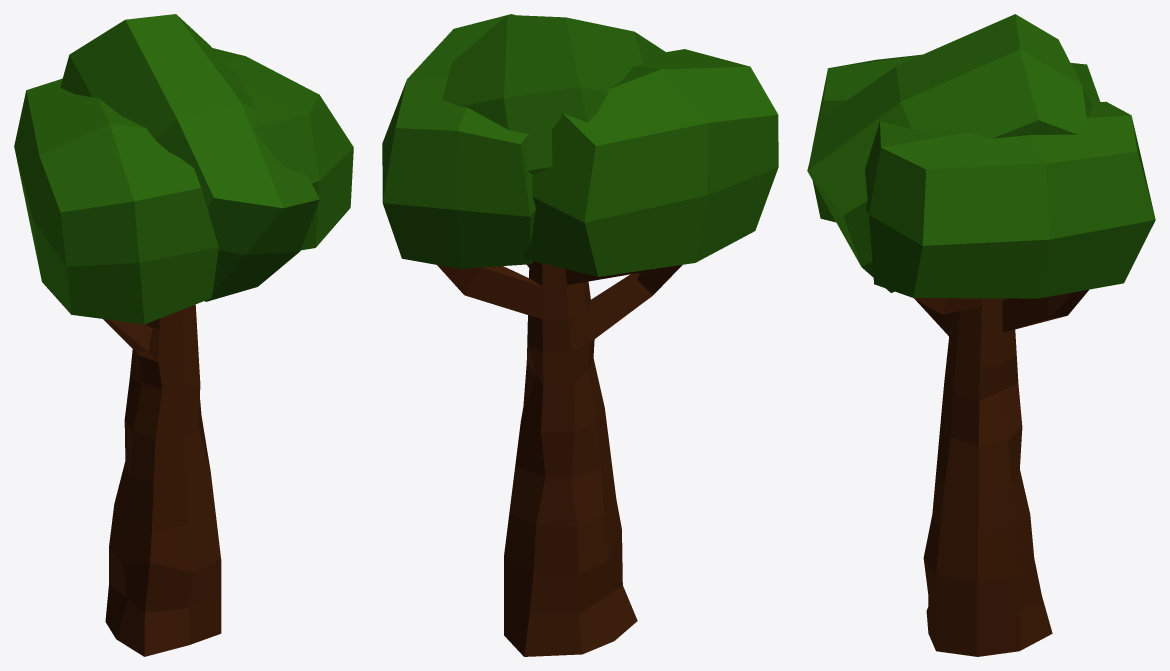
The model's file is Boom.fbx.
The picture shows the model from 3 angles, left to right: view 1: azimuth 30°, elevation 25°; view 2: azimuth 150°, elevation 25°; view 3: azimuth 270°, elevation 25°; orthographic projection. The views are drawn at different scales.
Parts seen in each view (by area): view 1: Cube.001, Cube, Cube.003, Cube.002; view 2: Cube.001, Cube, Cube.002, Cube.003; view 3: Cube.002, Cube, Cube.003, Cube.001.
Boxes of the visible parts, x1,y1,x2,y2 form: Cube.001: [14, 78, 218, 324]; Cube: [103, 304, 221, 656]; Cube.003: [60, 14, 319, 301]; Cube.002: [213, 48, 353, 250]; Cube.001: [522, 49, 778, 276]; Cube: [437, 261, 682, 656]; Cube.002: [382, 14, 535, 268]; Cube.003: [442, 15, 665, 174]; Cube.002: [865, 101, 1155, 298]; Cube: [914, 289, 1088, 656]; Cube.003: [807, 14, 1092, 292]; Cube.001: [810, 54, 1100, 222].
Size of the model in its own units: 890 by 1611 by 835.
